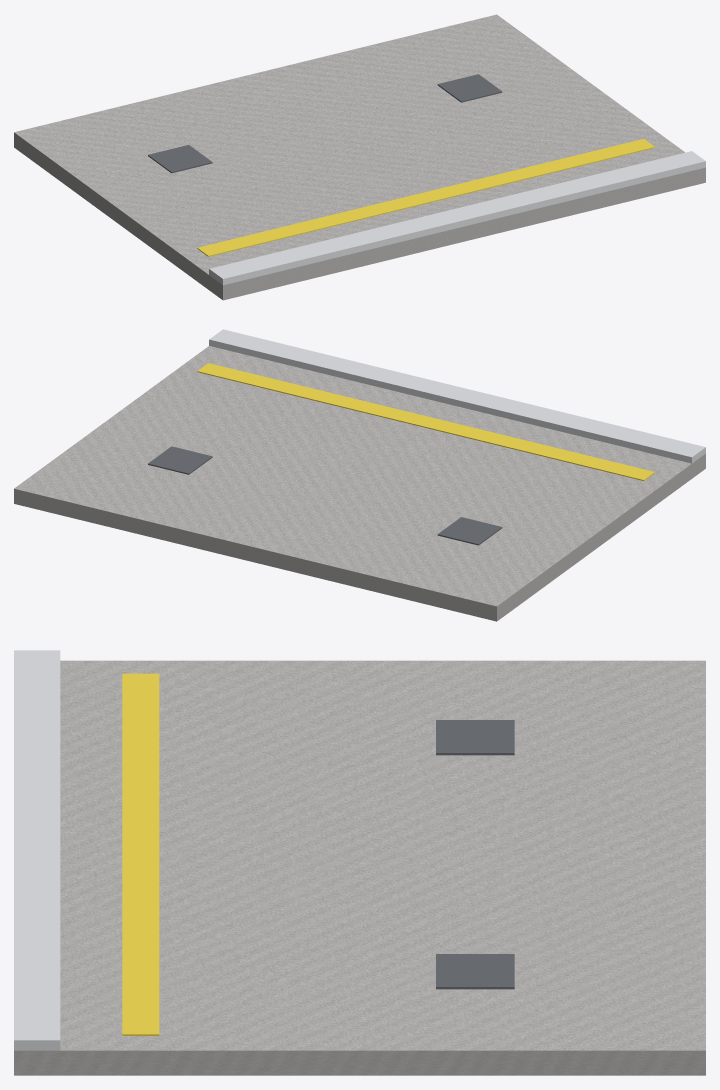
File: ferry-terminal-and-harbour-crossing-ferry-terminal-and-7d63e83c__35622.glb
The picture shows the model from 3 angles, top to bottom: view 1: azimuth 30°, elevation 25°; view 2: azimuth 150°, elevation 25°; view 3: azimuth 270°, elevation 25°; orthographic projection. The views are drawn at different scales.
Parts seen in each view (by area): view 1: ferry-terminal-and-harbour-crossing-quay-coping-tile; view 2: ferry-terminal-and-harbour-crossing-quay-coping-tile; view 3: ferry-terminal-and-harbour-crossing-quay-coping-tile.
Part boxes in pixels (box(x1,y1,x2,y2)): ferry-terminal-and-harbour-crossing-quay-coping-tile: box(14, 14, 705, 300); ferry-terminal-and-harbour-crossing-quay-coping-tile: box(14, 329, 705, 621); ferry-terminal-and-harbour-crossing-quay-coping-tile: box(14, 650, 705, 1075).
Bounding box in the file's own units: 4 × 0.17 × 3.
4 materials, 1 textured.
